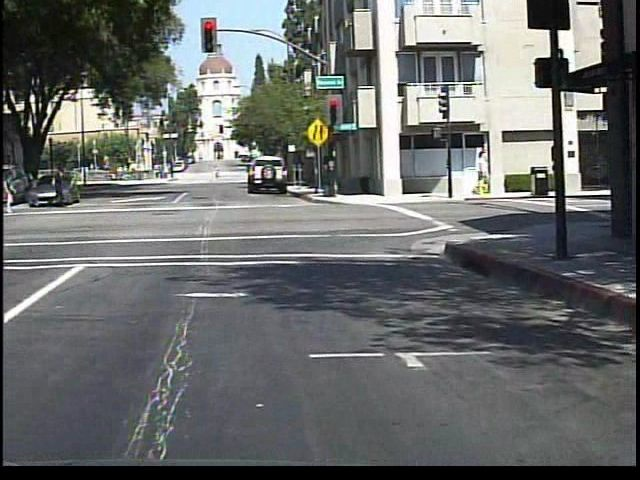person: (51, 165, 75, 211), (6, 168, 17, 221), (217, 165, 227, 182)
